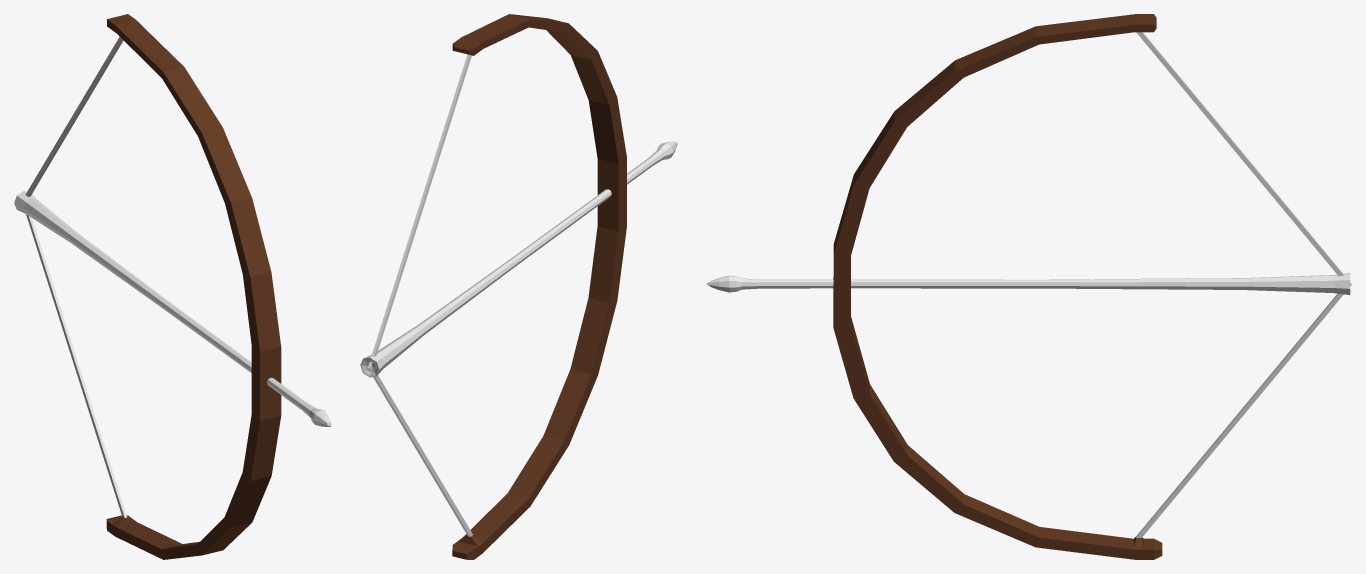
File: bow_and_arrow.glb
3 renders of one model, left to right at view 1: azimuth 30°, elevation 25°; view 2: azimuth 150°, elevation 25°; view 3: azimuth 270°, elevation 25°, orthographic. The views are drawn at different scales.
Visible parts, largest first — view 1: Bow and Arrow; view 2: Bow and Arrow; view 3: Bow and Arrow.
Boxes of the visible parts, x1=… form: Bow and Arrow: x1=14, y1=14, x2=331, y2=559; Bow and Arrow: x1=360, y1=14, x2=677, y2=559; Bow and Arrow: x1=706, y1=14, x2=1351, y2=559.
Size of the model in its own units: 0.4685 by 10.85 by 11.87.
